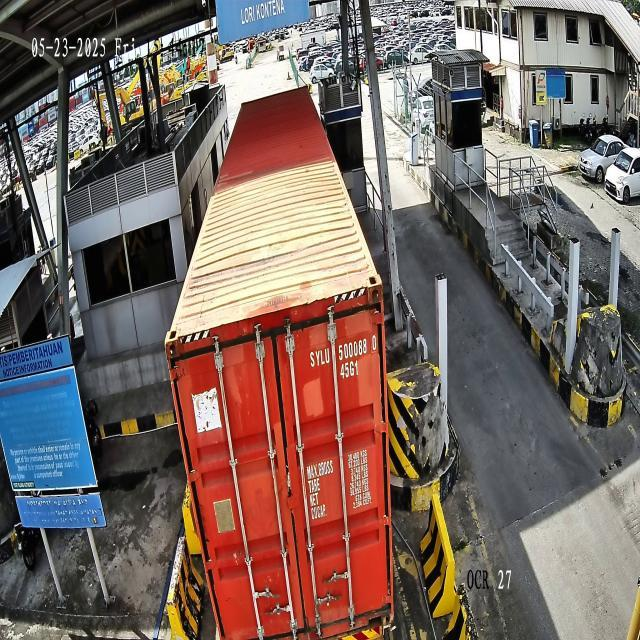ISO: (340, 360, 359, 380)
container_number: (308, 333, 378, 368)
